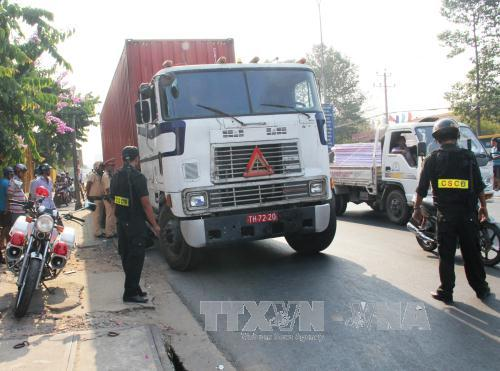plate: (246, 209, 283, 226)
